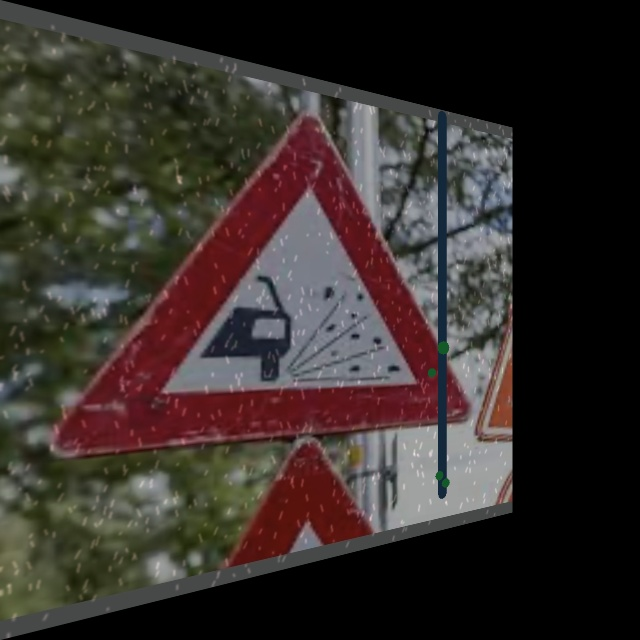Loose_Gravel: (74, 66, 470, 466)
